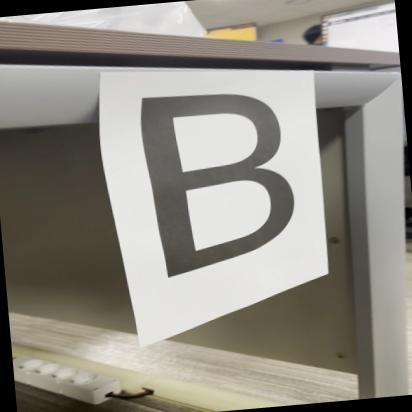seat: (112, 67, 380, 289)
